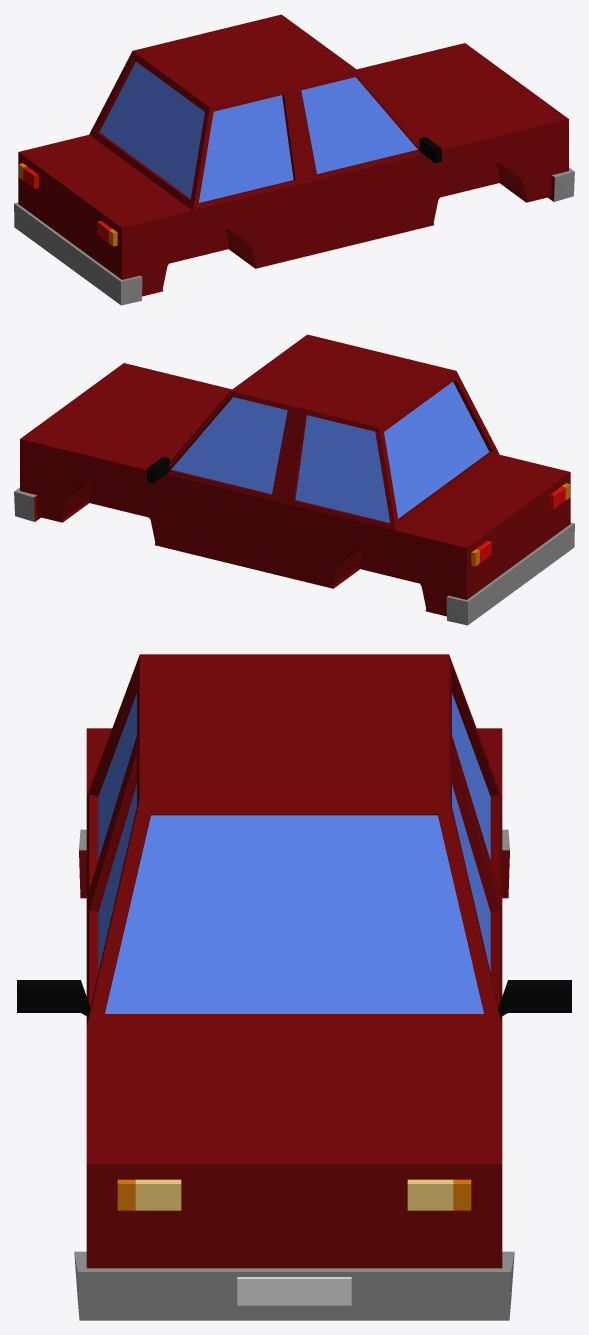
The model's file is car.dae.
The picture shows the model from 3 angles, top to bottom: view 1: azimuth 30°, elevation 25°; view 2: azimuth 150°, elevation 25°; view 3: azimuth 270°, elevation 25°; orthographic projection. The views are drawn at different scales.
Parts seen in each view (by area): view 1: Cube, Cube.002, Cube.004; view 2: Cube, Cube.002, Cube.004; view 3: Cube, Cube.004, Cube.001, Cube.003.
Boxes of the visible parts, left/top/right/bottom form: Cube: left=14, top=14, right=574, bottom=305; Cube.002: left=18, top=163, right=117, bottom=246; Cube.004: left=419, top=137, right=441, bottom=163; Cube: left=14, top=334, right=574, bottom=625; Cube.002: left=471, top=483, right=570, bottom=566; Cube.004: left=147, top=457, right=169, bottom=483; Cube: left=74, top=654, right=514, bottom=1320; Cube.004: left=17, top=980, right=571, bottom=1017; Cube.001: left=117, top=1179, right=471, bottom=1210; Cube.003: left=237, top=1277, right=351, bottom=1305.
Bounding box in the file's own units: 8.33 × 4.38 × 2.85.
